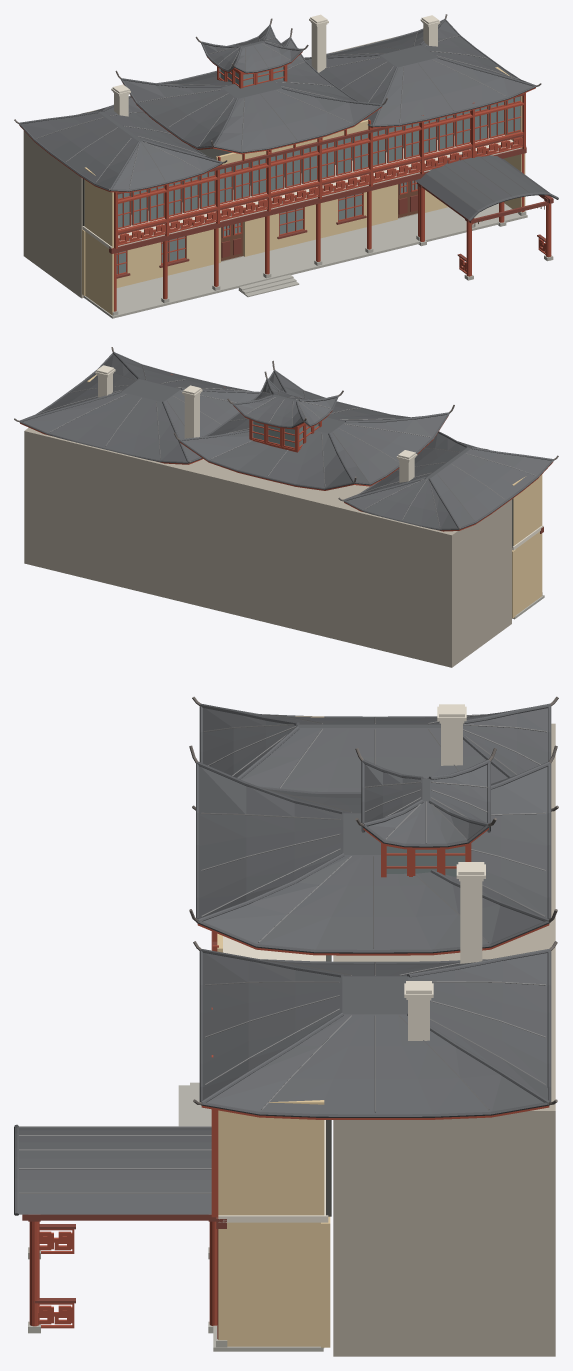
The model's file is changning-st-johns-administration-building-lod.glb.
3 renders of one model, top to bottom at view 1: azimuth 30°, elevation 25°; view 2: azimuth 150°, elevation 25°; view 3: azimuth 270°, elevation 25°, orthographic. The views are drawn at different scales.
Parts seen in each view (by area): view 1: 圣约翰大学校政厅（四号楼）南廊与望楼; view 2: 圣约翰大学校政厅（四号楼）南廊与望楼; view 3: 圣约翰大学校政厅（四号楼）南廊与望楼.
Boxes of the visible parts, bbox=[...] form: 圣约翰大学校政厅（四号楼）南廊与望楼: bbox=[14, 14, 558, 318]; 圣约翰大学校政厅（四号楼）南廊与望楼: bbox=[14, 347, 558, 667]; 圣约翰大学校政厅（四号楼）南廊与望楼: bbox=[14, 696, 558, 1356].
Size of the model in its own units: 27.75 by 11.79 by 15.8.
